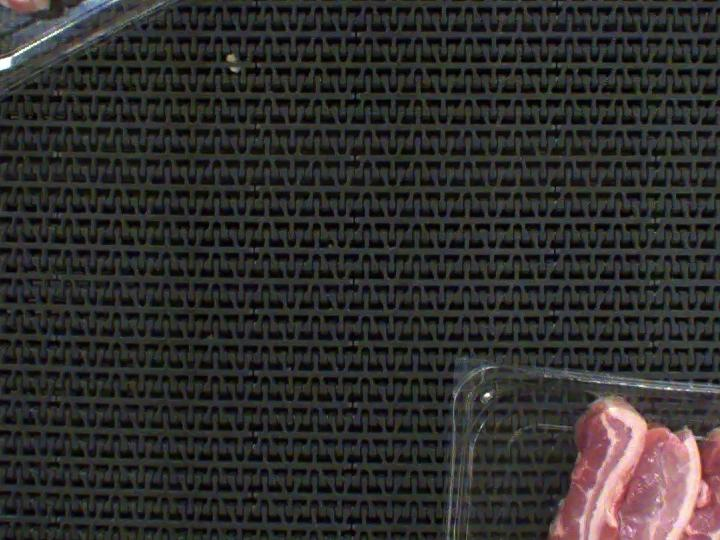packaging-error: (586, 382, 629, 400)
